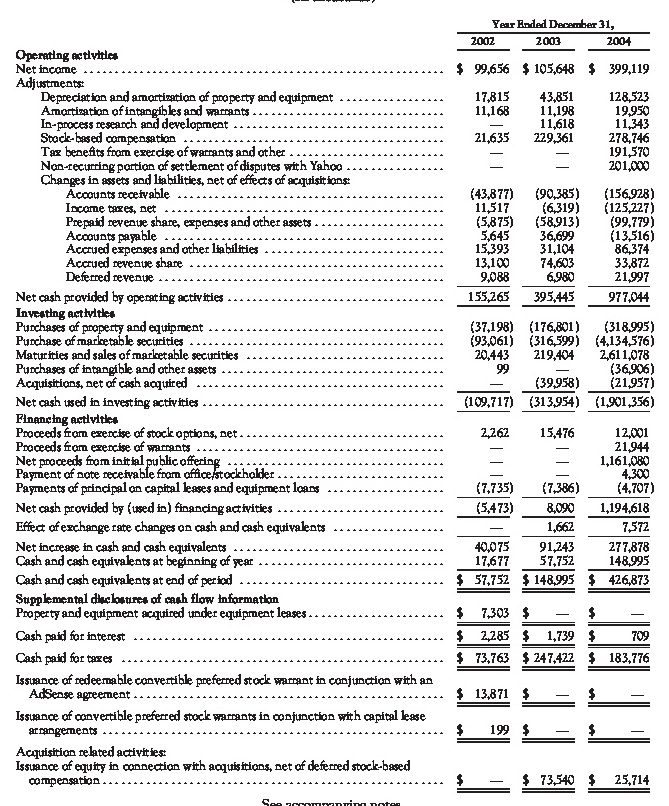table: (0, 0, 669, 806)
